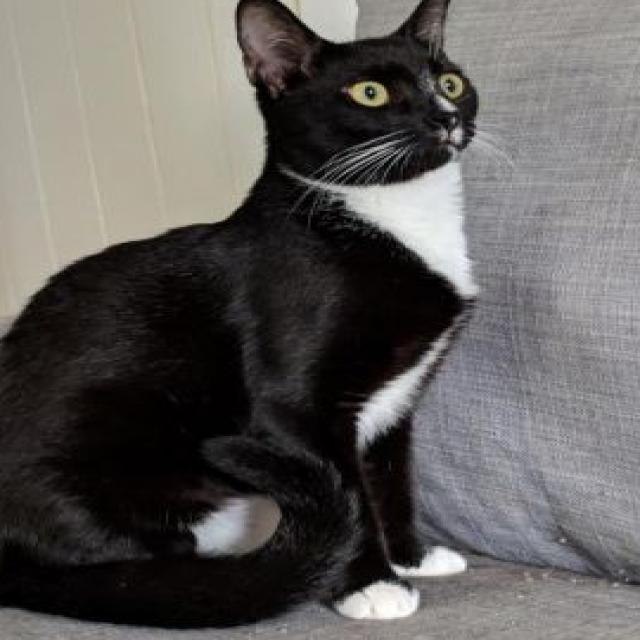Tuxedo: (0, 0, 486, 635)
